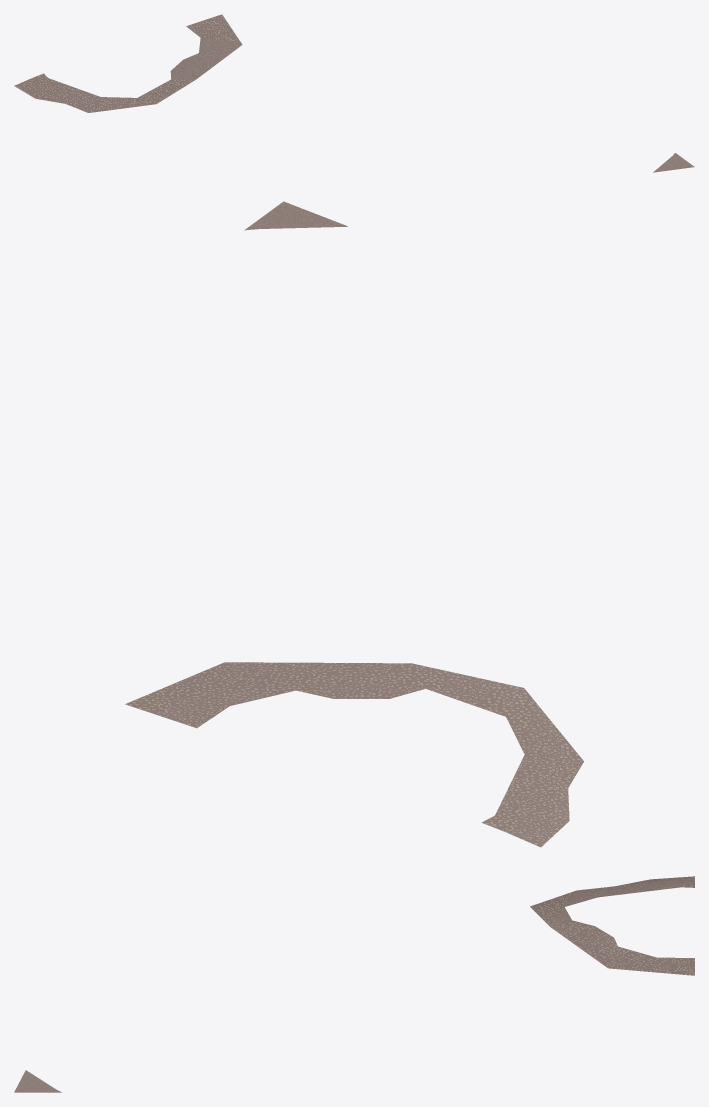
The model's file is kd_stage_135fe0_0_10_bounded.glb.
3 renders of one model, top to bottom at view 1: azimuth 30°, elevation 25°; view 2: azimuth 150°, elevation 25°; view 3: azimuth 270°, elevation 25°, orthographic. The views are drawn at different scales.
Parts seen in each view (by area): view 1: kd_stage_135fe0_0_10_bounded; view 2: kd_stage_135fe0_0_10_bounded; view 3: kd_stage_135fe0_0_10_bounded.
Part boxes in pixels (bbox=[...]): kd_stage_135fe0_0_10_bounded: bbox=[14, 14, 694, 172]; kd_stage_135fe0_0_10_bounded: bbox=[125, 201, 583, 847]; kd_stage_135fe0_0_10_bounded: bbox=[14, 876, 694, 1092].
Bounding box in the file's own units: 30.58 × 1.65 × 36.13.
Materials: 1 (1 with a texture image).
